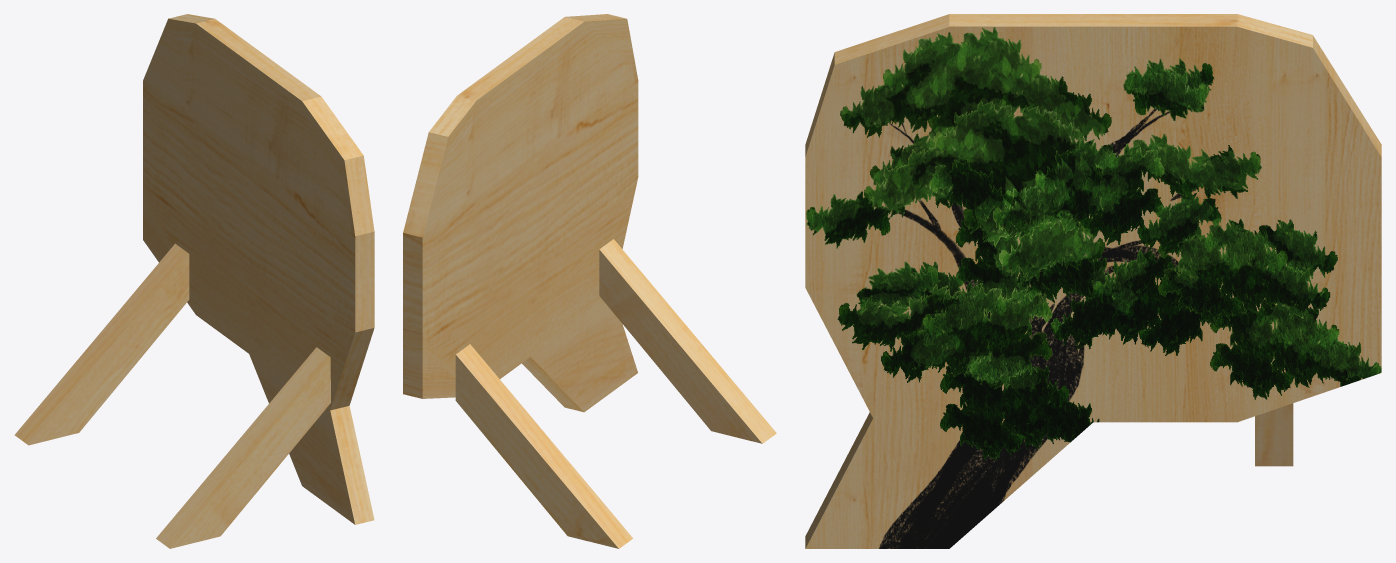
File: tree_cutout.fbx
3 renders of one model, left to right at view 1: azimuth 30°, elevation 25°; view 2: azimuth 150°, elevation 25°; view 3: azimuth 270°, elevation 25°, orthographic. The views are drawn at different scales.
Visible parts, largest first — view 1: Cube; view 2: Cube; view 3: Cube.
Boxes of the visible parts, bbox=[...] form: Cube: bbox=[14, 14, 374, 548]; Cube: bbox=[403, 14, 776, 548]; Cube: bbox=[805, 14, 1381, 548].
Size of the model in its own units: 0.9805 by 2.01 by 2.
